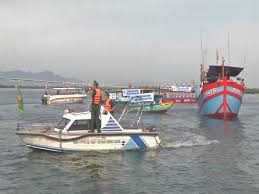tau_dansu: (19, 104, 165, 164), (193, 63, 245, 125), (112, 87, 178, 119)
